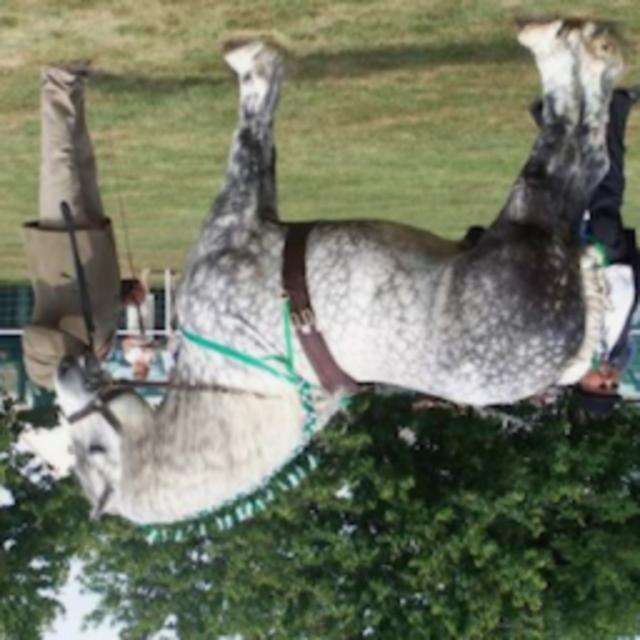Horse: (48, 15, 632, 538)
